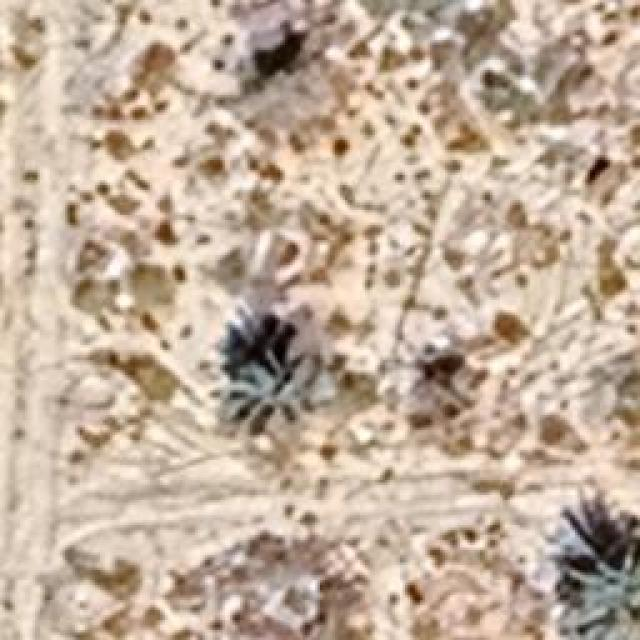PalmTree: (98, 104, 279, 386), (103, 73, 289, 104), (568, 560, 638, 638)
